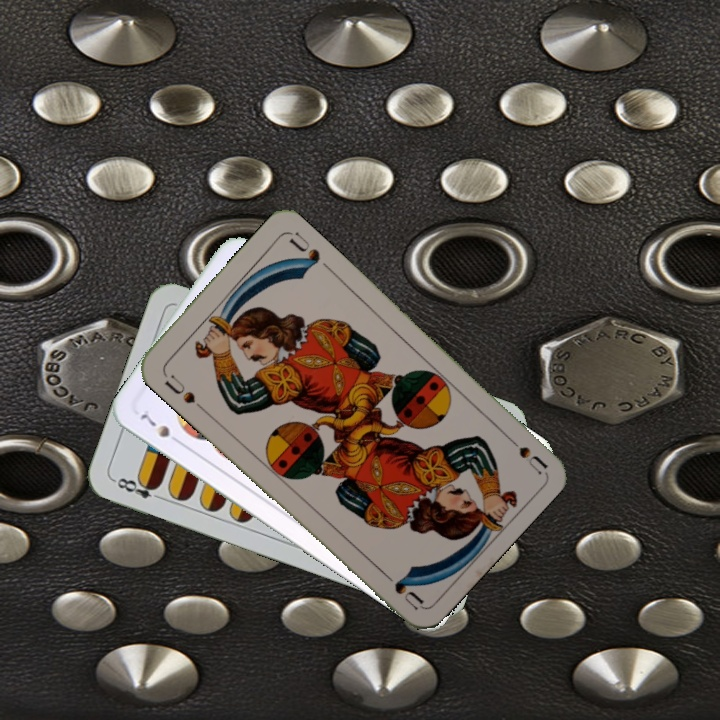E8: (110, 473, 167, 503)
S7: (133, 406, 185, 448)
SU: (498, 428, 549, 476), (161, 370, 207, 413)
